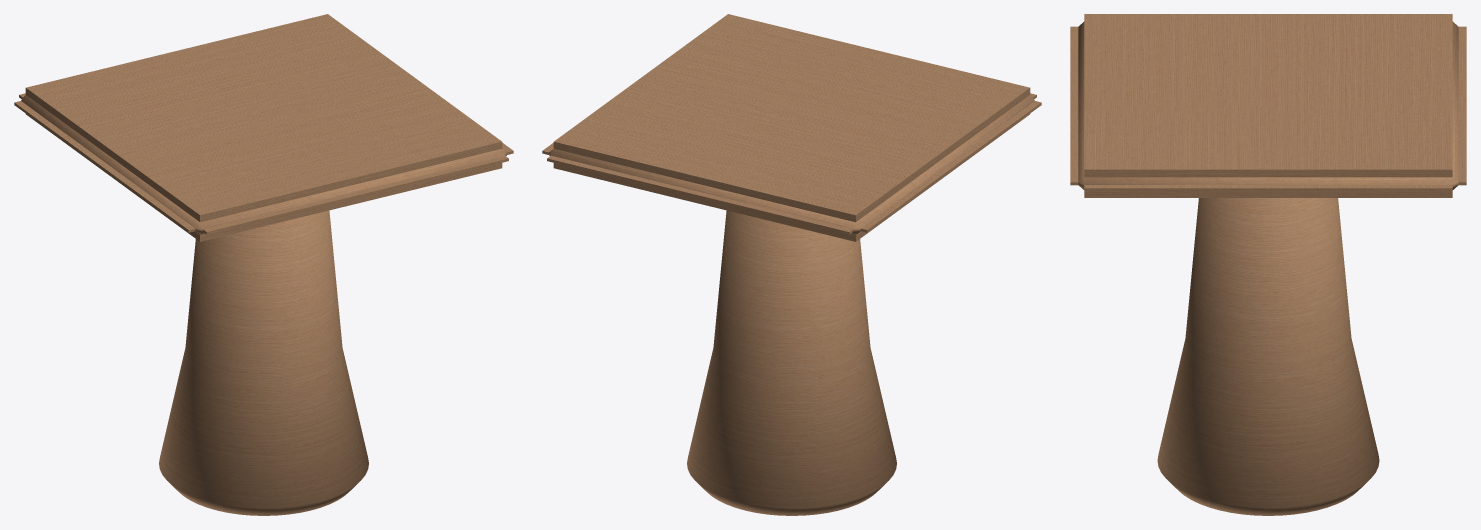
File: contemporary.side_table.gltf
3 views of the same model, side by side, from view 1: azimuth 30°, elevation 25°; view 2: azimuth 150°, elevation 25°; view 3: azimuth 270°, elevation 25° (orthographic). The views are drawn at different scales.
Parts seen in each view (by area): view 1: contemporary.side_table.rounded-top; view 2: contemporary.side_table.rounded-top; view 3: contemporary.side_table.rounded-top.
Part boxes in pixels (x1,y1,x2,y2): contemporary.side_table.rounded-top: (14, 14, 513, 515); contemporary.side_table.rounded-top: (542, 14, 1041, 515); contemporary.side_table.rounded-top: (1070, 14, 1466, 515).
Bounding box in the file's own units: 0.46 × 0.49 × 0.46.
1 material, 1 textured.
